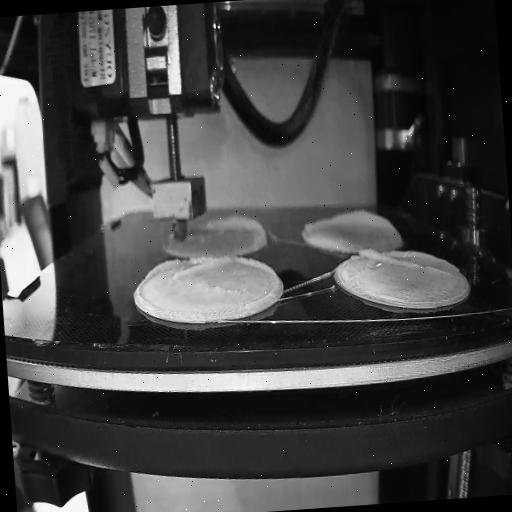over_extrusion: (356, 242, 454, 284), (232, 253, 282, 314), (300, 204, 394, 236), (203, 211, 270, 250), (146, 256, 230, 284)
